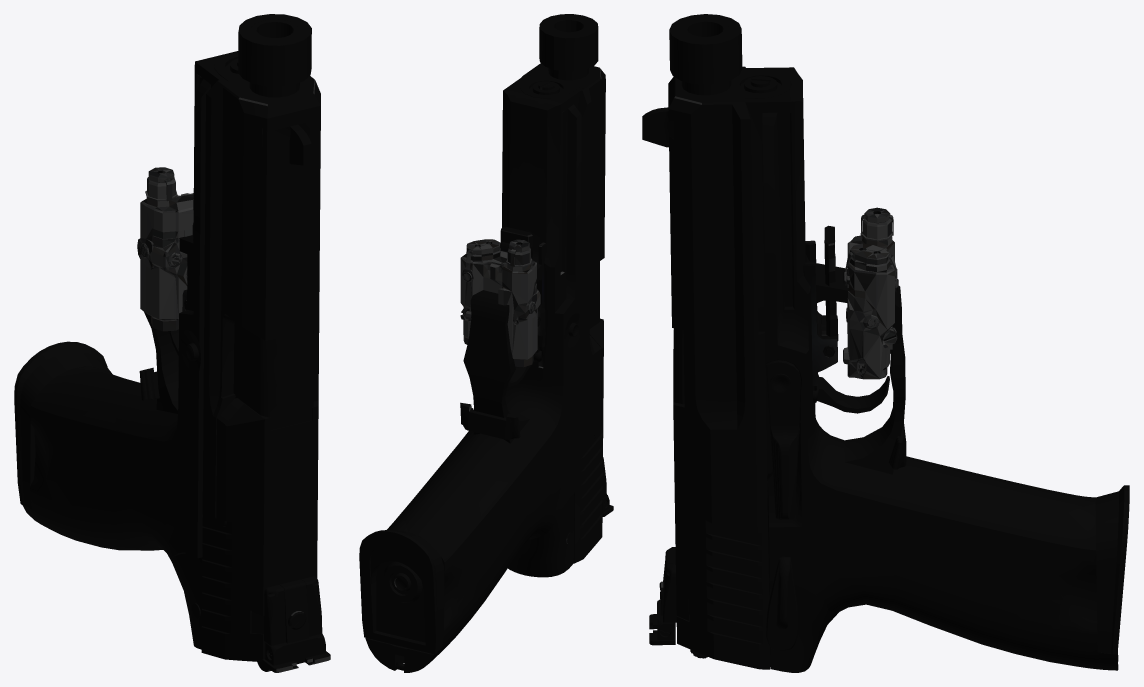
File: HK_USP45__Adapter_USP_Rail__Laser_Pistol.fbx
3 views of the same model, side by side, from view 1: azimuth 30°, elevation 25°; view 2: azimuth 150°, elevation 25°; view 3: azimuth 270°, elevation 25° (orthographic). The views are drawn at different scales.
Visible parts, largest first — view 1: asset_HK_USP45.001; view 2: asset_HK_USP45.001; view 3: asset_HK_USP45.001.
Boxes of the visible parts, box(x1,y1,x2,y2) form: asset_HK_USP45.001: box(14, 14, 330, 672); asset_HK_USP45.001: box(359, 14, 613, 672); asset_HK_USP45.001: box(642, 14, 1129, 672).
Size of the model in its own units: 0.0228 by 0.135 by 0.0938.
